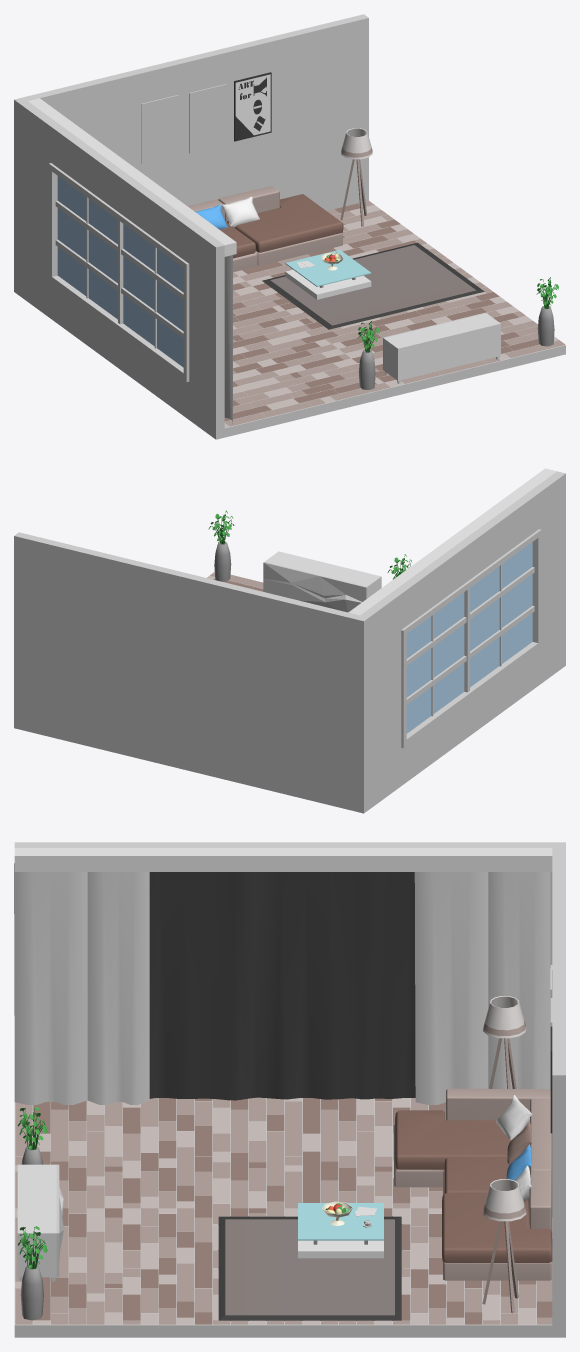
File: cozy01.glb
3 renders of one model, top to bottom at view 1: azimuth 30°, elevation 25°; view 2: azimuth 150°, elevation 25°; view 3: azimuth 270°, elevation 25°, orthographic. The views are drawn at different scales.
Visible parts, largest first — view 1: polySurface1; view 2: polySurface1; view 3: polySurface1.
Part boxes in pixels (x1,y1,x2,y2): polySurface1: (14,14,565,439); polySurface1: (14,468,565,813); polySurface1: (14,842,565,1337).
Size of the model in its own units: 10.31 by 5.38 by 10.25.
1 material, 1 textured.
